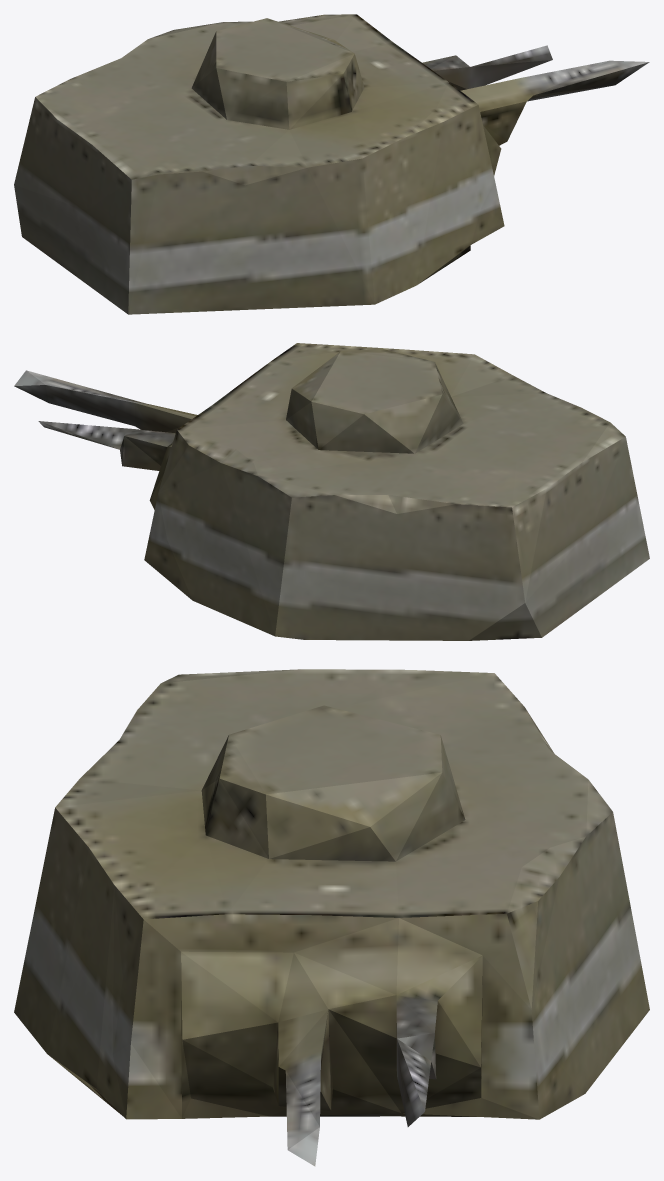
File: turret.obj
3 views of the same model, one above another, from view 1: azimuth 30°, elevation 25°; view 2: azimuth 150°, elevation 25°; view 3: azimuth 270°, elevation 25° (orthographic). The views are drawn at different scales.
Size of the model in its own units: 0.5144 by 0.155 by 0.3279.
Materials: 1 (1 with a texture image).
